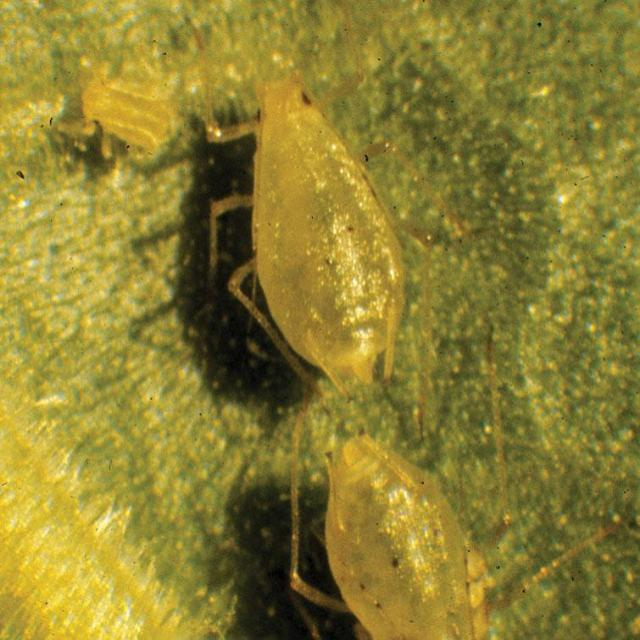Aphids: (164, 46, 444, 398), (283, 425, 503, 640)
